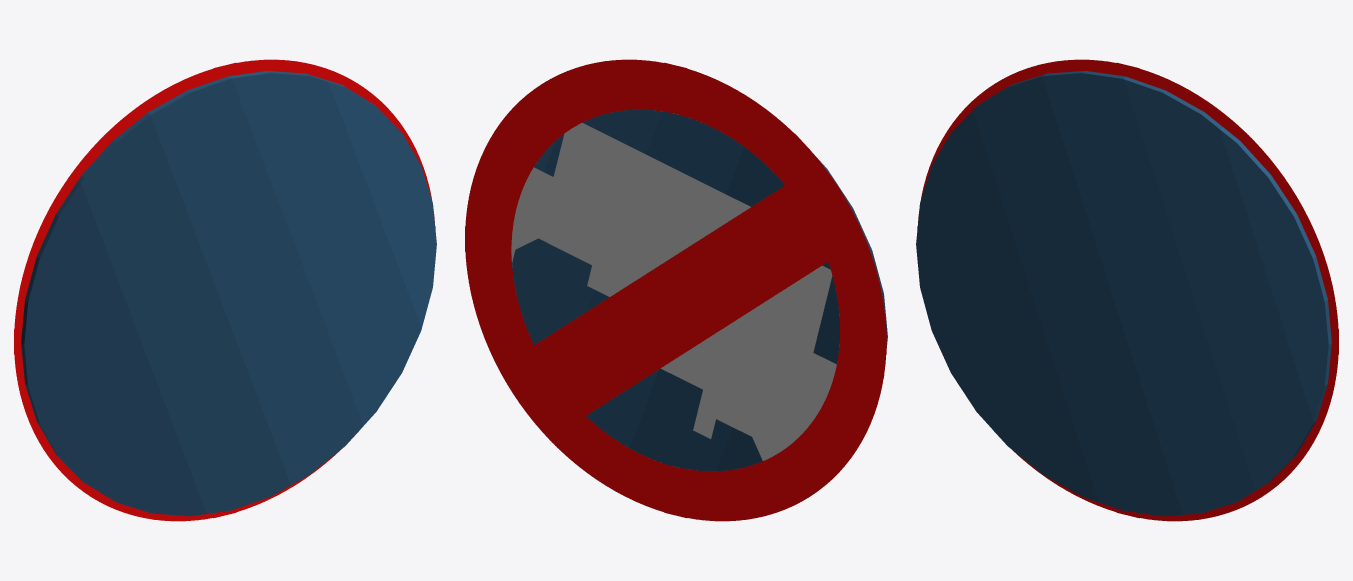
File: Koi-tious.fbx
3 renders of one model, left to right at view 1: azimuth 30°, elevation 25°; view 2: azimuth 150°, elevation 25°; view 3: azimuth 330°, elevation 25°, orthographic.
Parts seen in each view (by area): view 1: Circle.001, Prohibit; view 2: Prohibit, Koi fish, Circle.001; view 3: Circle.001, Prohibit.
Part boxes in pixels (box(x1,y1,x2,y2)): Circle.001: box(21, 70, 436, 516); Prohibit: box(14, 59, 435, 521); Prohibit: box(465, 59, 886, 521); Koi fish: box(511, 122, 836, 460); Circle.001: box(512, 109, 887, 471); Circle.001: box(916, 70, 1331, 516); Prohibit: box(917, 59, 1338, 521).
Bounding box in the file's own units: 204 × 208 × 4.87.
